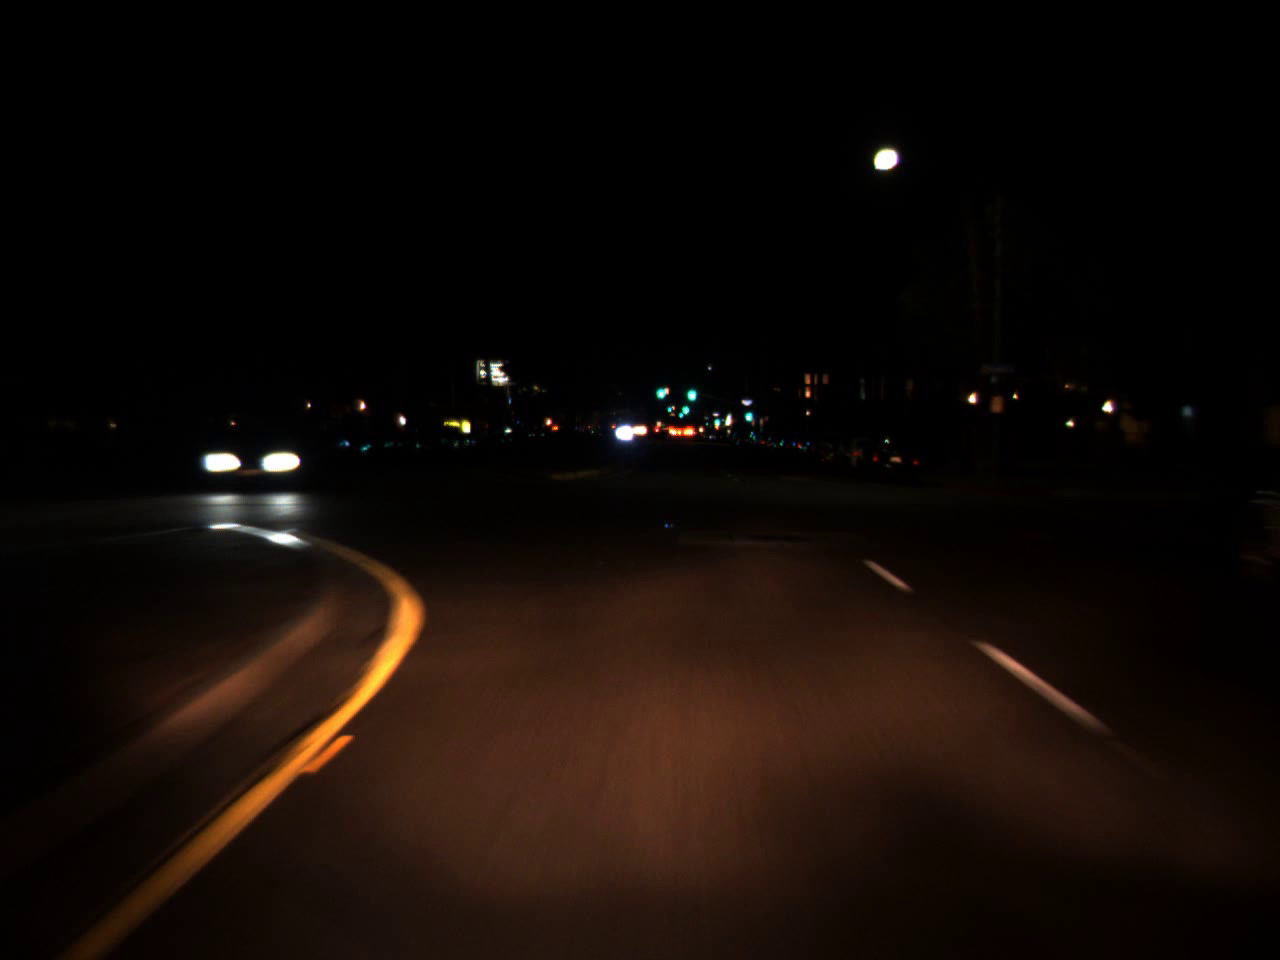go: (684, 377, 698, 404), (678, 394, 692, 415), (655, 378, 665, 402), (743, 401, 753, 425), (712, 414, 721, 426), (665, 401, 672, 413), (677, 407, 684, 419)
